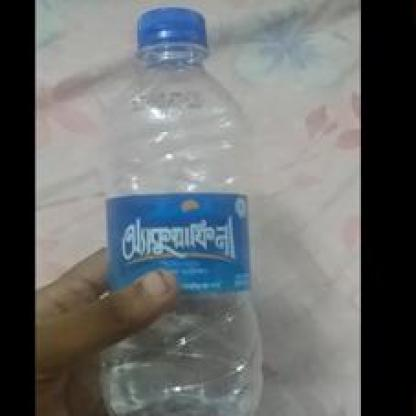bottle: (93, 6, 277, 414)
